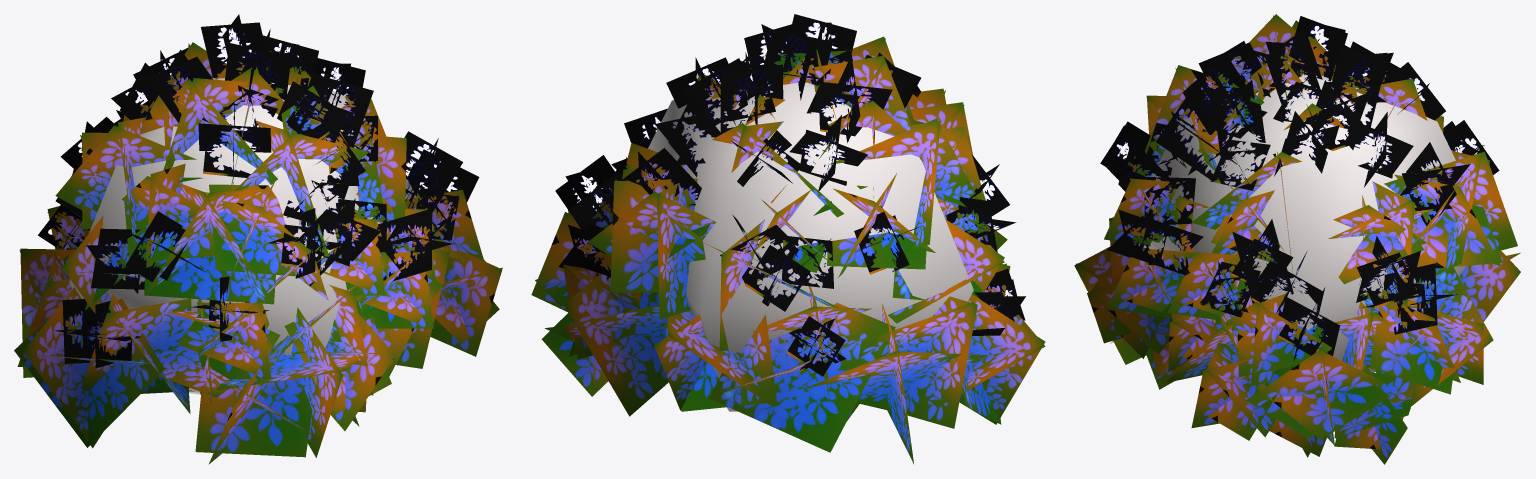
File: Homeworld_Exterior_Fd_Plant_Grass_ZiHuacong_01_Lod0.fbx
3 renders of one model, left to right at view 1: azimuth 30°, elevation 25°; view 2: azimuth 150°, elevation 25°; view 3: azimuth 270°, elevation 25°, orthographic. The views are drawn at different scales.
Parts seen in each view (by area): view 1: Area_Fd_Grass_Common_Tzgm_03_Lod0, EffectMesh; view 2: Area_Fd_Grass_Common_Tzgm_03_Lod0, EffectMesh; view 3: Area_Fd_Grass_Common_Tzgm_03_Lod0, EffectMesh.
Boxes of the visible parts, bbox=[...] form: Area_Fd_Grass_Common_Tzgm_03_Lod0: bbox=[14, 14, 502, 464]; EffectMesh: bbox=[69, 78, 416, 394]; Area_Fd_Grass_Common_Tzgm_03_Lod0: bbox=[531, 14, 1045, 463]; EffectMesh: bbox=[648, 82, 973, 411]; Area_Fd_Grass_Common_Tzgm_03_Lod0: bbox=[1074, 14, 1520, 464]; EffectMesh: bbox=[1139, 74, 1465, 372].
Size of the model in its own units: 5.31 by 3.86 by 4.35.
2 materials, 1 textured.
